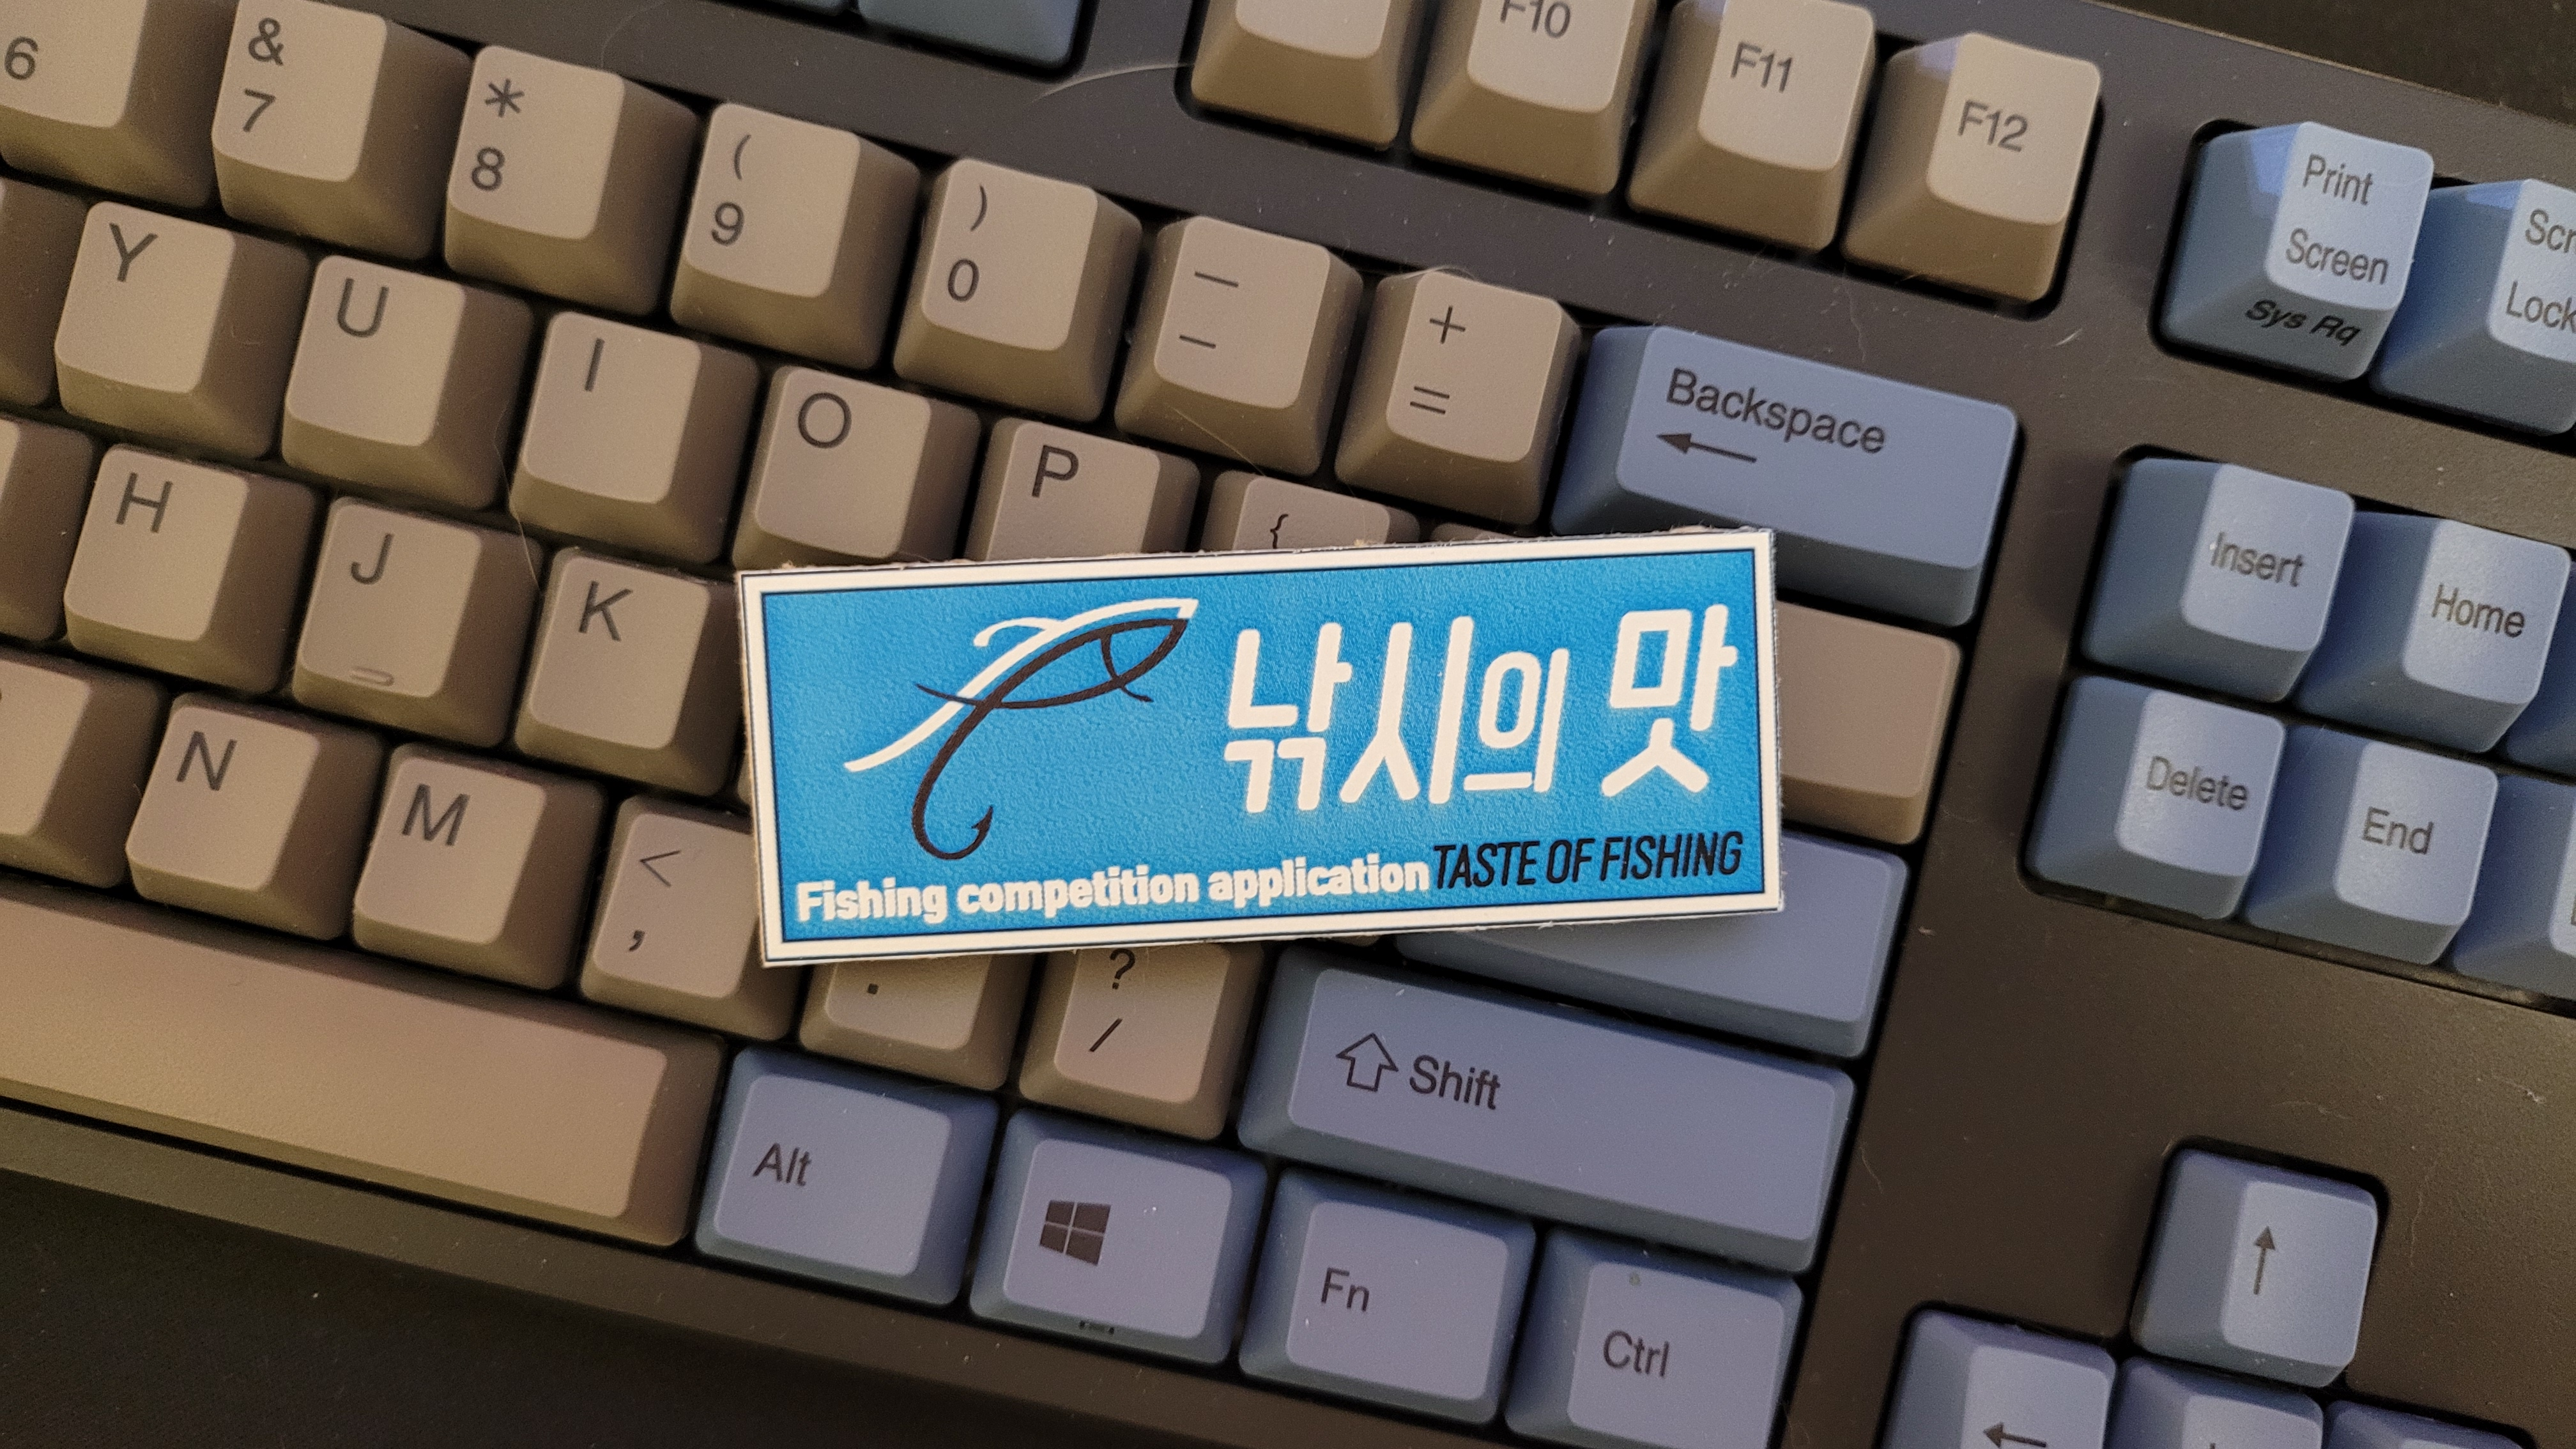tag: (741, 533, 1796, 952)
